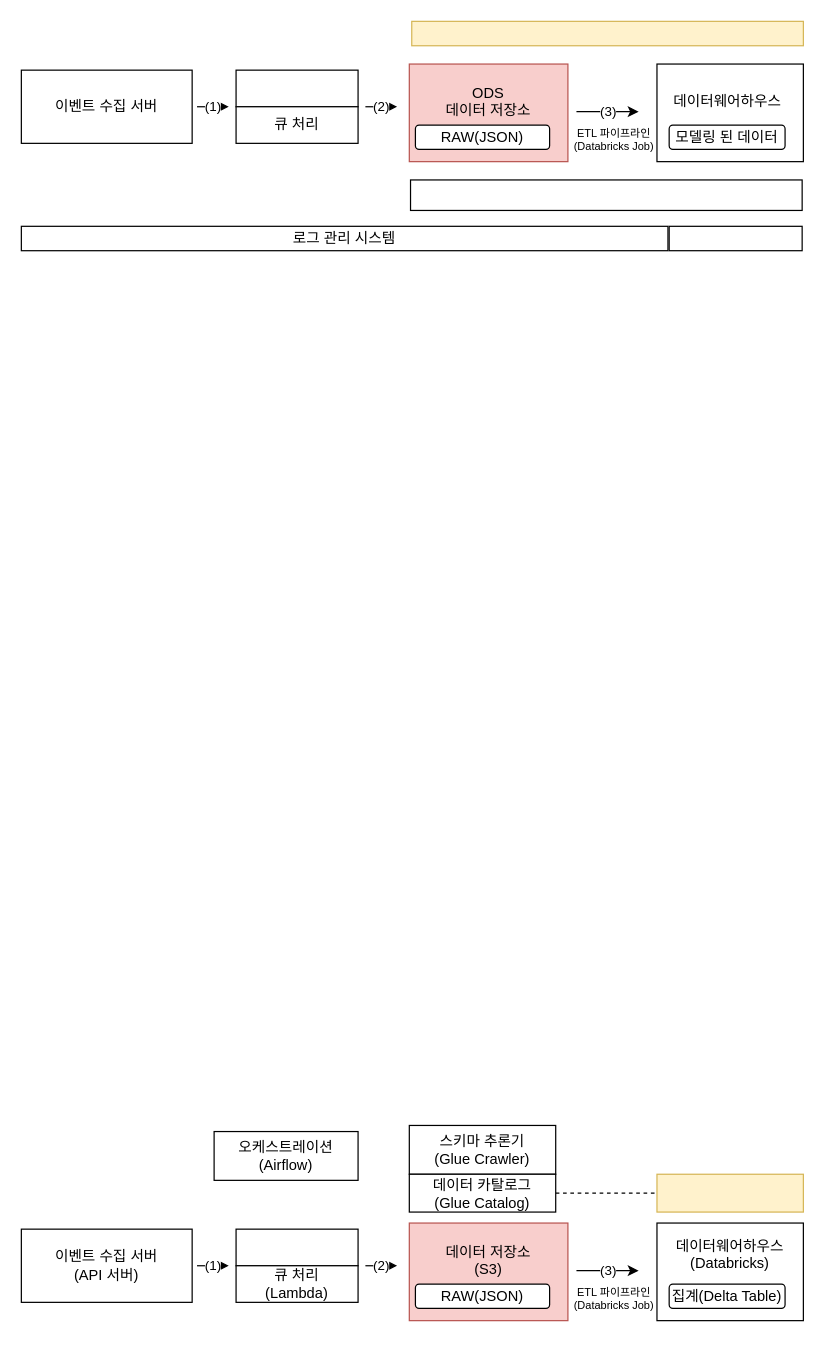
Image size: 825x1360. Some labels were removed from this diagram. The shapes that lost their labels are listed below. From the top down, each one's centre as x and y in pixels, then its label:
(607,33): 데이터 카탈로그
(296,88): 메시지 큐
(605,194): 오케스트레이션
(735,238): 협업 도구
(729,1192): 데이터 카탈로그 (Unity Catalog)
(296,1247): 메시지 큐 (SQS)
